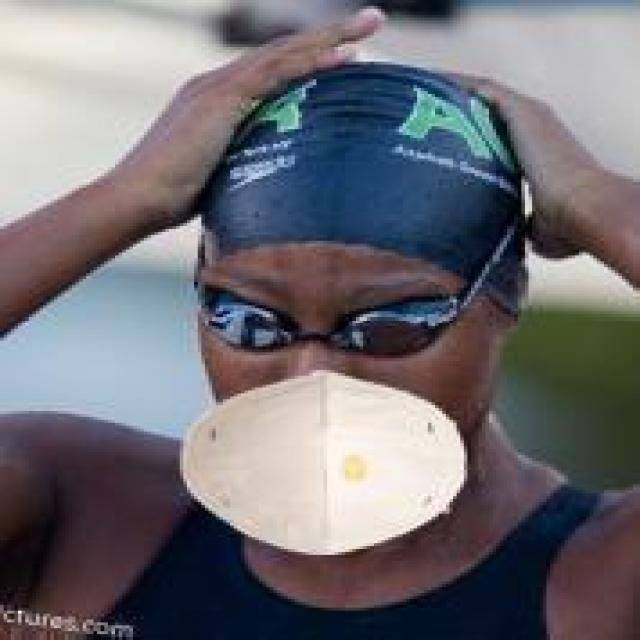mask: (180, 38, 604, 587)
